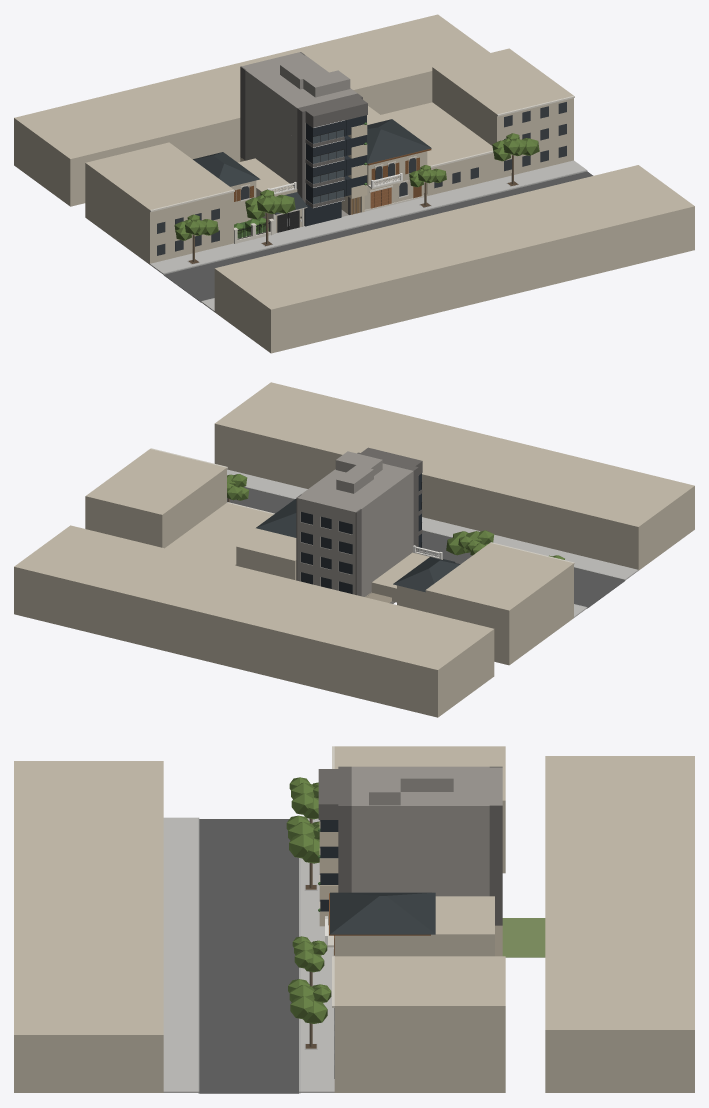
Rendered from edificio.glb.
3 renders of one model, top to bottom at view 1: azimuth 30°, elevation 25°; view 2: azimuth 150°, elevation 25°; view 3: azimuth 270°, elevation 25°, orthographic. The views are drawn at different scales.
Visible parts, largest first — view 1: Vecinos_Cuadra, Vecinos_Enfrente, Techo, Veredas, Vecinos_Derecha, Vecinos_Izquierda, Calzada, Arboles_Vereda, Piso_02, Piso_03, Piso_04, Piso_01 (+6 smaller); view 2: Vecinos_Cuadra, Vecinos_Enfrente, Techo, Vecinos_Derecha, Vecinos_Izquierda, Veredas, Calzada, Piso_03, Piso_04, Piso_02, Arboles_Vereda, Piso_01; view 3: Vecinos_Cuadra, Vecinos_Enfrente, Calzada, Veredas, Vecinos_Derecha, Techo, Arboles_Vereda, Piso_03, Piso_04, Piso_02, Parque_Patio, Cordones.
Part boxes in pixels (bbox=[...]): Vecinos_Cuadra: bbox=[14, 14, 574, 264]; Vecinos_Enfrente: bbox=[214, 165, 694, 353]; Techo: bbox=[240, 52, 367, 128]; Veredas: bbox=[150, 160, 586, 311]; Vecinos_Derecha: bbox=[364, 106, 431, 211]; Vecinos_Izquierda: bbox=[193, 152, 307, 243]; Calzada: bbox=[164, 171, 593, 302]; Arboles_Vereda: bbox=[174, 133, 539, 261]; Piso_02: bbox=[240, 119, 367, 187]; Piso_03: bbox=[240, 98, 367, 167]; Piso_04: bbox=[240, 78, 367, 147]; Piso_01: bbox=[240, 139, 367, 208]; Vecinos_Cuadra: bbox=[14, 448, 574, 717]; Vecinos_Enfrente: bbox=[214, 382, 694, 570]; Techo: bbox=[296, 447, 422, 524]; Vecinos_Derecha: bbox=[236, 499, 296, 580]; Vecinos_Izquierda: bbox=[371, 545, 460, 611]; Veredas: bbox=[227, 469, 638, 617]; Calzada: bbox=[227, 488, 624, 608]; Piso_03: bbox=[296, 499, 422, 564]; Piso_04: bbox=[296, 479, 422, 544]; Piso_02: bbox=[296, 519, 422, 584]; Arboles_Vereda: bbox=[227, 474, 564, 559]; Piso_01: bbox=[296, 539, 422, 596]; Vecinos_Cuadra: bbox=[332, 746, 694, 1092]; Vecinos_Enfrente: bbox=[14, 761, 163, 1092]; Calzada: bbox=[199, 819, 316, 1093]; Veredas: bbox=[163, 817, 334, 1092]; Vecinos_Derecha: bbox=[325, 892, 494, 956]; Techo: bbox=[318, 766, 502, 821]; Arboles_Vereda: bbox=[286, 777, 331, 1046]; Piso_03: bbox=[318, 847, 502, 874]; Piso_04: bbox=[318, 820, 502, 847]; Piso_02: bbox=[318, 873, 502, 901]; Parque_Patio: bbox=[502, 918, 545, 957]; Cordones: bbox=[198, 817, 317, 1093].
Bounding box in the file's own units: 60.66 × 17.5 × 63.7.
